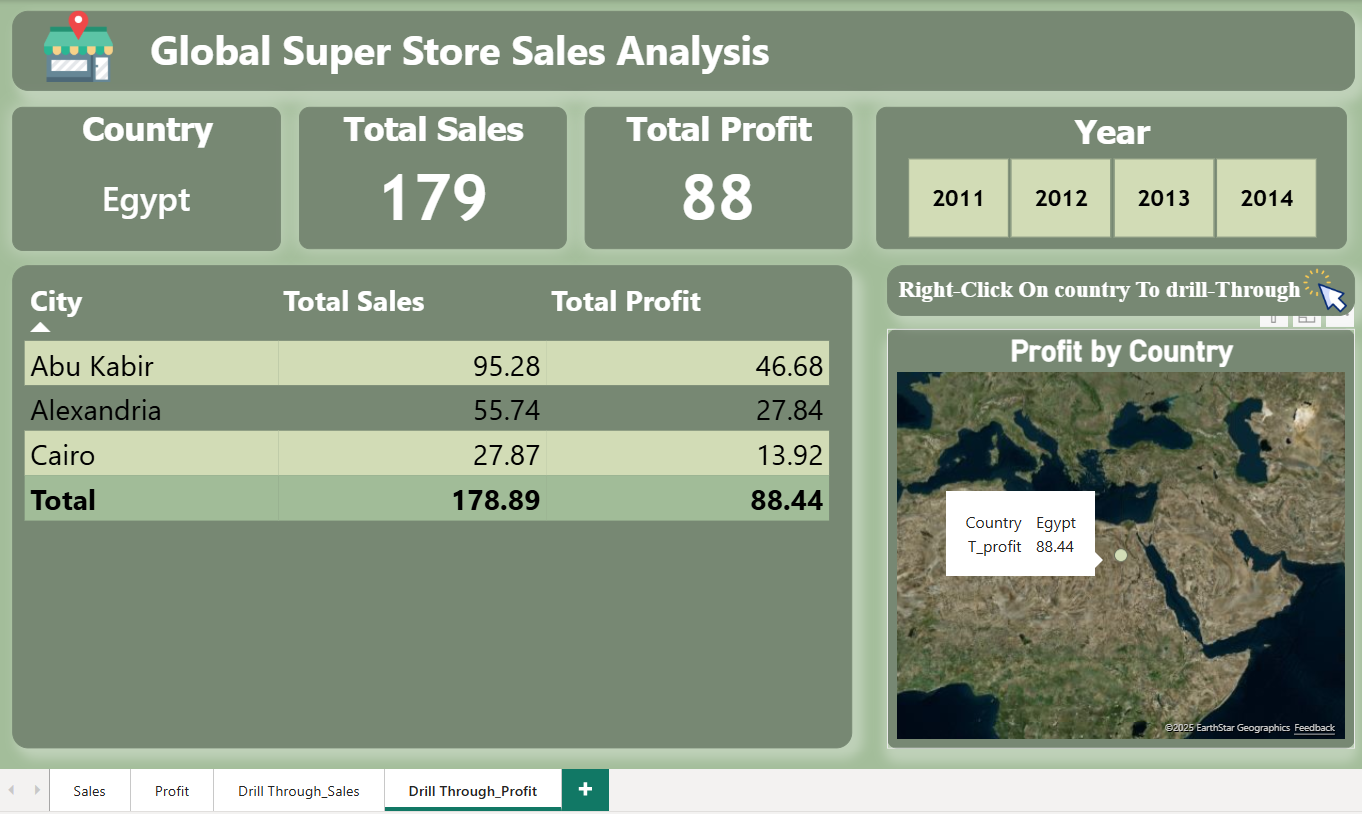

What the dashboard file says about the page in this screenshot:
{"tool":"powerbi","page":{"name":"Drill Through_Profit","canvas":[1280,720],"ordinal":3},"visuals":[{"type":"textbox","box":[12.4,10.1,1257.5,75.3],"z":0},{"type":"image","box":[20.2,10.1,107.9,66.3],"z":1000},{"type":"cardVisual","title":"Country","fields":{"Data":["Min(Orders.Country)"]},"box":[12.4,100,251.7,134.9],"z":2000},{"type":"cardVisual","title":"Total Sales","fields":{"Data":["Dax Measure.T_Sales"]},"box":[280.9,100,250.6,133.7],"z":3000},{"type":"cardVisual","title":"Total Profit","fields":{"Data":["Dax Measure.T_profit"]},"box":[548.4,100,250.6,133.7],"z":4000},{"type":"slicer","title":"Year","fields":{"Values":["Orders.Order Date.Variation.Date Hierarchy.Year"]},"box":[821.5,100,440.5,133.7],"z":5000},{"type":"azureMap","title":"Profit by Country","fields":{"Category":["Orders.Country"],"Size":["Dax Measure.T_profit"]},"box":[831.6,307.9,438.3,393.3],"z":6000},{"type":"textbox","box":[831.6,248.4,438.3,47.2],"z":7000},{"type":"image","box":[1221.5,248.4,40.5,47.2],"z":8000},{"type":"tableEx","fields":{"Values":["Orders.City","Sum(Orders.Sales)","Sum(Orders.Profit)"]},"box":[12.4,248.4,786.6,452.9],"z":9000}]}

Visuals, with their boxes on the page's 1280x720 design canvas (x1, y1, x2, y2). These are canvas units, not pixel positions in the 1362x814 screenshot, which may show the page scaled, cropped or inside an application window:
textbox: (12,10,1270,85)
image: (20,10,128,76)
"Country" cardVisual: (12,100,264,235)
"Total Sales" cardVisual: (281,100,532,234)
"Total Profit" cardVisual: (548,100,799,234)
"Year" slicer: (822,100,1262,234)
"Profit by Country" azureMap: (832,308,1270,701)
textbox: (832,248,1270,296)
image: (1222,248,1262,296)
tableEx - Orders.City x Sum(Orders.Sales): (12,248,799,701)
